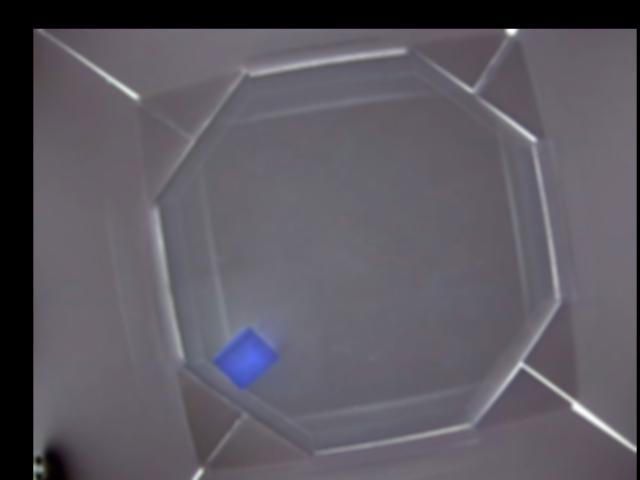Potato: (215, 327, 279, 388)
